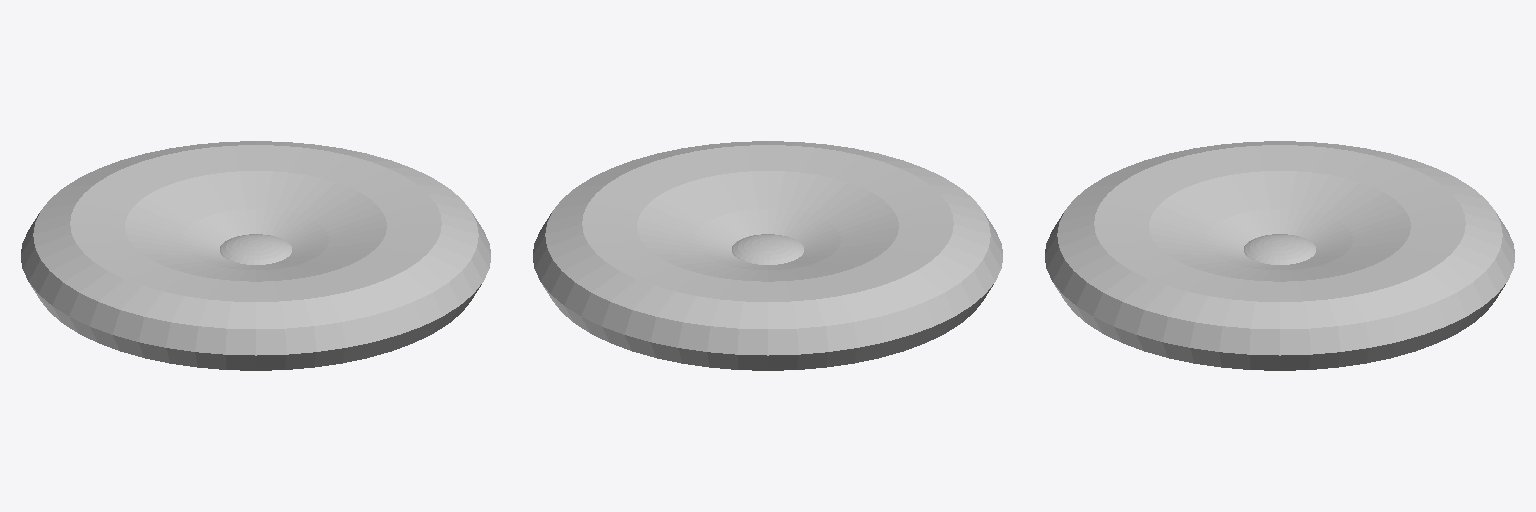
Rendered from Galaxy_obj.obj.
3 views of the same model, side by side, from view 1: azimuth 30°, elevation 25°; view 2: azimuth 150°, elevation 25°; view 3: azimuth 270°, elevation 25° (orthographic).
Parts seen in each view (by area): view 1: Torus, Sphere; view 2: Torus, Sphere; view 3: Torus, Sphere.
Boxes of the visible parts, x1,y1,x2,y2 form: Torus: [21, 141, 490, 370]; Sphere: [220, 234, 291, 264]; Torus: [533, 141, 1002, 370]; Sphere: [732, 234, 803, 264]; Torus: [1045, 141, 1514, 370]; Sphere: [1244, 234, 1315, 264].
Size of the model in its own units: 2.27 by 0.3449 by 2.27.